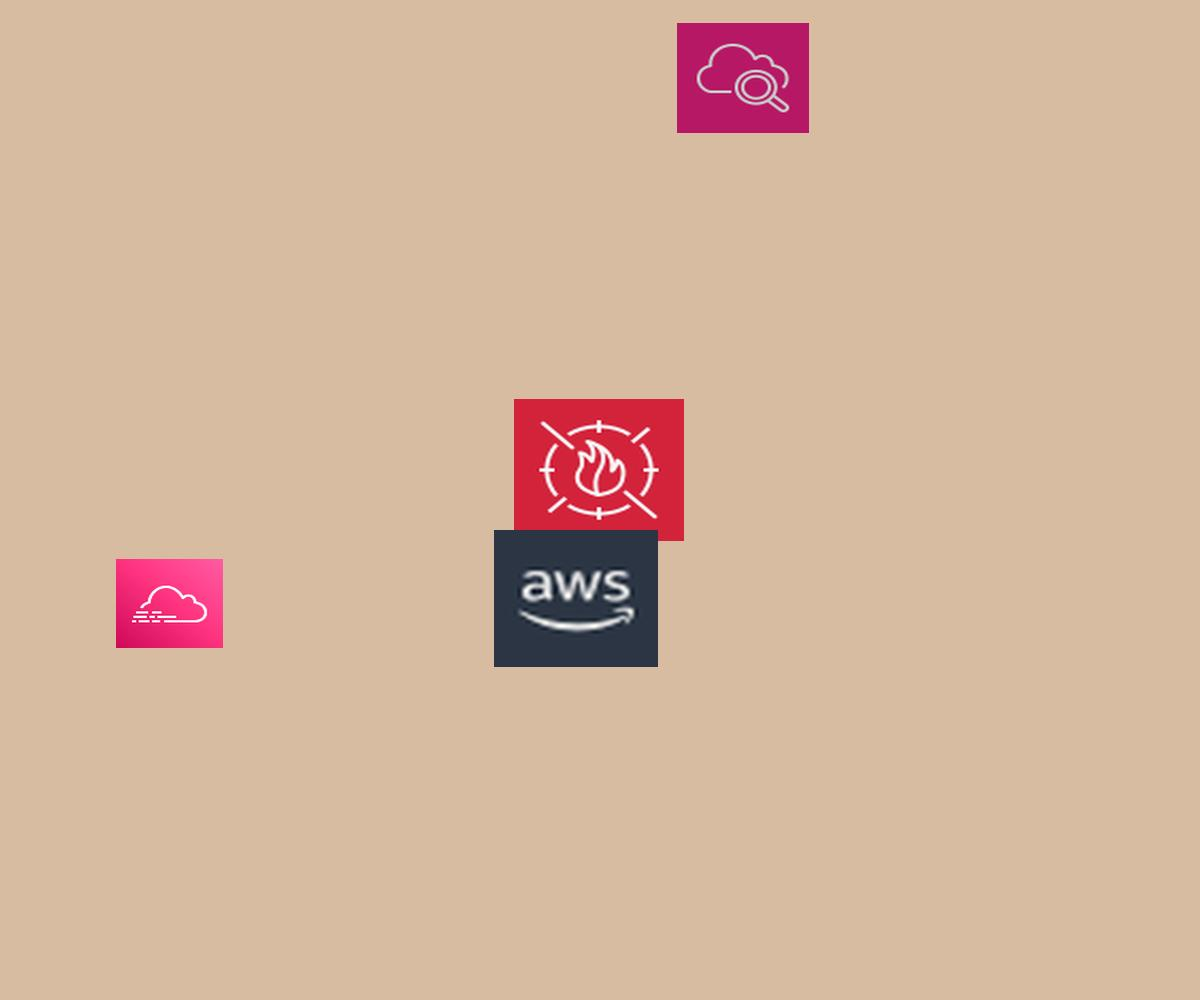AWS-Cloud-logo: (494, 530, 658, 667)
AWS-CloudTrail: (116, 559, 223, 648)
AWS-CloudWatch: (677, 23, 809, 133)
AWS-WAF: (514, 399, 684, 541)
